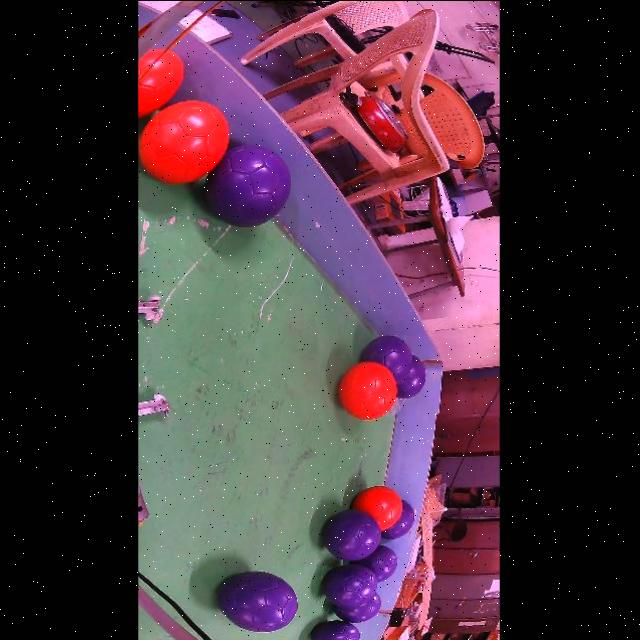P: (204, 145, 291, 227), (218, 570, 297, 630), (324, 508, 381, 560), (361, 335, 412, 384), (322, 563, 378, 607), (352, 544, 398, 581), (332, 593, 380, 622), (381, 500, 414, 539), (396, 355, 425, 398), (311, 619, 360, 640), (138, 0, 140, 10)
R: (139, 100, 228, 183), (339, 361, 396, 419), (137, 48, 183, 117), (352, 485, 402, 530)
